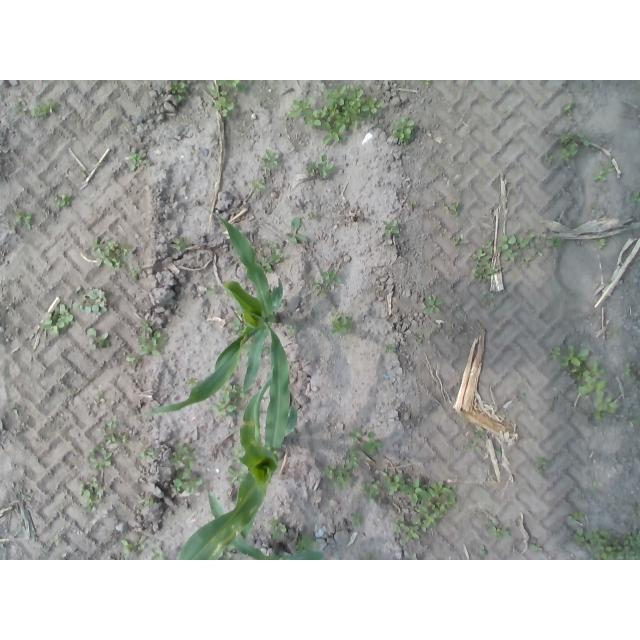Maize: (135, 208, 292, 449), (174, 366, 298, 560), (207, 490, 325, 560)
Weeds: (361, 472, 459, 544), (289, 85, 388, 150), (549, 345, 619, 422), (326, 425, 385, 491), (566, 510, 640, 560), (498, 228, 564, 268), (85, 418, 129, 470), (170, 441, 206, 495), (94, 235, 139, 271), (210, 80, 251, 118), (135, 317, 169, 358), (470, 239, 502, 281), (38, 303, 74, 338), (74, 282, 111, 314), (214, 383, 246, 418), (80, 476, 107, 514), (259, 239, 286, 274), (312, 269, 342, 300), (559, 132, 590, 161), (329, 308, 355, 339), (307, 153, 333, 181), (394, 115, 417, 145), (286, 218, 310, 246), (86, 327, 113, 351), (32, 97, 61, 119), (167, 80, 191, 106), (258, 150, 282, 173), (126, 151, 151, 173), (121, 534, 147, 554), (485, 520, 511, 540), (420, 295, 444, 316), (593, 161, 615, 183), (18, 208, 37, 232), (296, 533, 319, 552), (268, 518, 289, 538), (171, 237, 194, 255), (55, 192, 77, 209), (382, 219, 401, 238), (619, 361, 637, 381), (227, 466, 246, 484), (230, 445, 247, 464), (248, 179, 269, 194), (480, 291, 496, 310), (14, 96, 29, 116), (149, 548, 172, 561), (445, 202, 462, 218), (8, 403, 24, 418), (137, 448, 156, 460), (351, 507, 363, 526), (122, 353, 138, 366), (450, 232, 462, 249), (628, 410, 640, 427), (564, 101, 577, 116), (286, 321, 298, 337), (232, 318, 244, 334), (93, 392, 107, 405), (468, 440, 482, 452), (130, 271, 143, 283), (383, 343, 398, 353), (142, 497, 158, 506), (52, 534, 64, 546), (516, 392, 528, 404), (596, 238, 608, 250), (611, 327, 624, 338), (449, 323, 462, 334), (307, 211, 321, 221), (408, 199, 419, 211), (206, 286, 218, 297), (537, 457, 548, 469), (632, 503, 640, 518), (412, 332, 424, 342), (529, 543, 543, 551), (357, 553, 373, 560), (475, 428, 485, 439), (545, 153, 556, 163), (631, 191, 640, 203), (81, 169, 90, 180), (188, 377, 197, 387), (590, 203, 598, 214), (455, 299, 464, 308), (480, 545, 487, 555), (411, 553, 420, 560), (425, 80, 431, 90), (263, 518, 270, 526), (495, 450, 501, 457)
